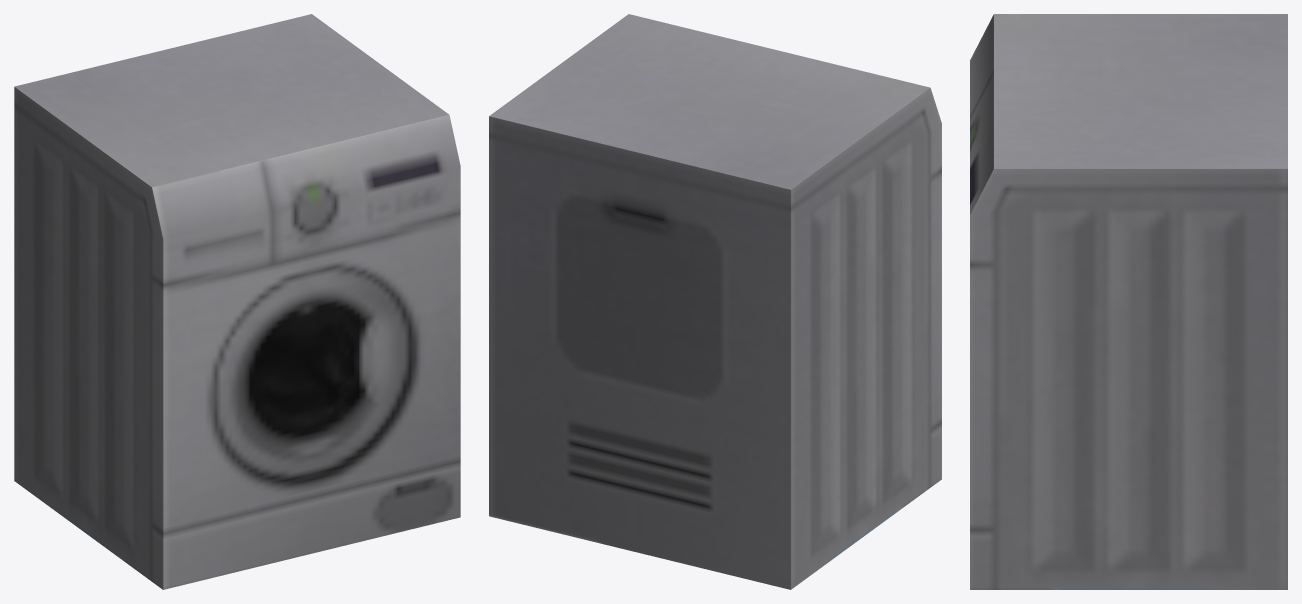
The model's file is Washing_Machine.fbx.
3 views of the same model, side by side, from view 1: azimuth 30°, elevation 25°; view 2: azimuth 150°, elevation 25°; view 3: azimuth 270°, elevation 25° (orthographic). The views are drawn at different scales.
Parts seen in each view (by area): view 1: pCube585; view 2: pCube585; view 3: pCube585.
Boxes of the visible parts, x1,y1,x2,y2 form: pCube585: (14, 14, 460, 589); pCube585: (489, 14, 941, 589); pCube585: (970, 14, 1287, 589).
Bounding box in the file's own units: 1.5 × 1.9 × 1.3.
